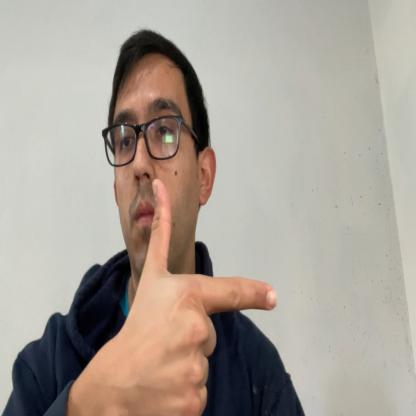G: (129, 178, 278, 416)
